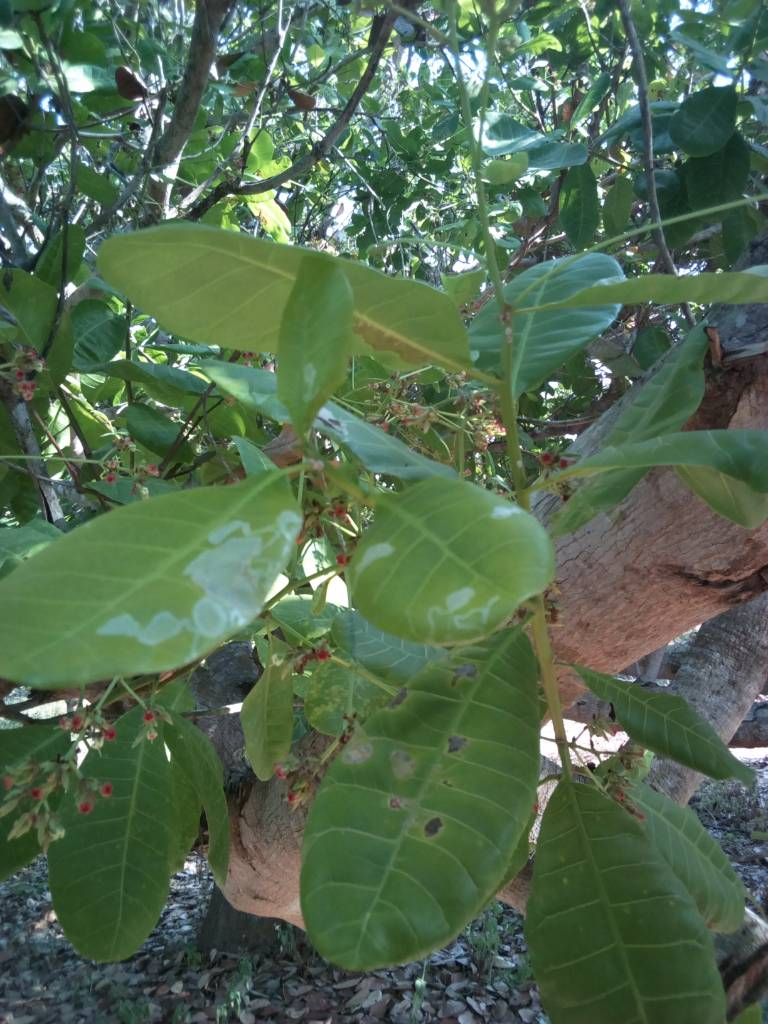Dysdercus wolkerii: (261, 630, 586, 982)
